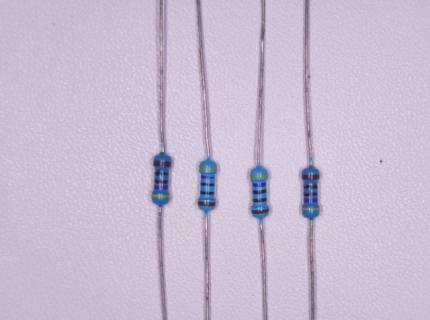Black band: (252, 189, 267, 195), (303, 185, 318, 190), (200, 182, 215, 187), (154, 179, 169, 184), (253, 198, 267, 203), (154, 171, 168, 176), (304, 192, 318, 196), (200, 191, 214, 195)
Brown band: (153, 160, 172, 167), (197, 201, 216, 207), (302, 174, 320, 180), (251, 209, 269, 214)
Violet band: (153, 185, 169, 190), (200, 174, 216, 179), (251, 182, 266, 187), (303, 198, 318, 203)
Yellow band: (250, 173, 268, 179), (199, 166, 218, 171), (302, 207, 320, 211), (152, 194, 170, 198)
